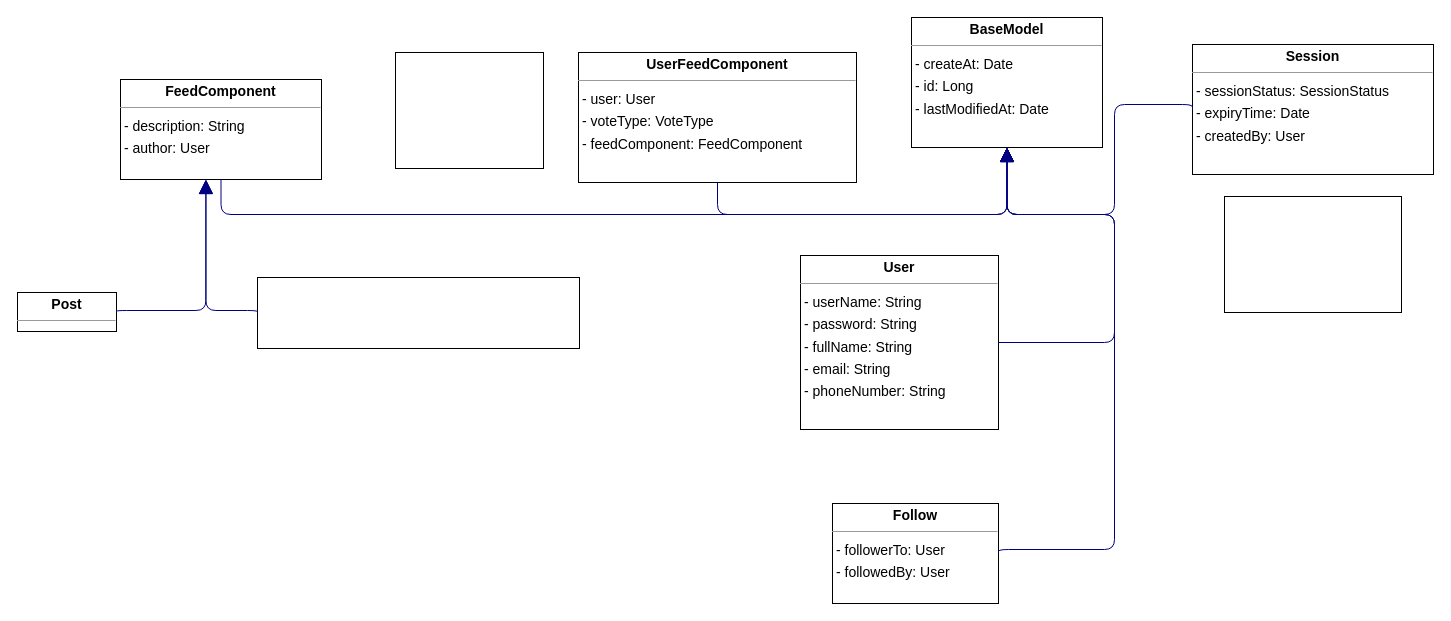
The diagram is 1451 pixels wide and 621 high, and some of its shapes have lost their labels. The shapes that lost their labels are listed below. From the top down, each one's centre as x and y in pixels, then its label:
At [469,110]: "<<enumeration>> VoteType + UPVOTE: + DOWNVOTE:".
At [1313,254]: "<<enumeration>> SessionStatus + ACTIVE: + EXPIRED:".
At [418,312]: "Comment - parentFeedComponent: FeedComponent".
